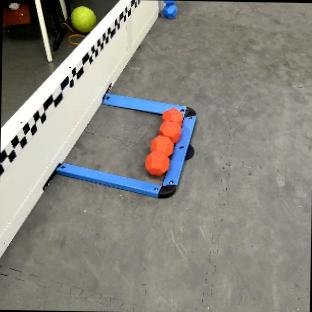Parking - Part: (56, 93, 196, 197)
V5_BLUE: (163, 0, 176, 17)
V5_RED: (146, 107, 182, 175)
